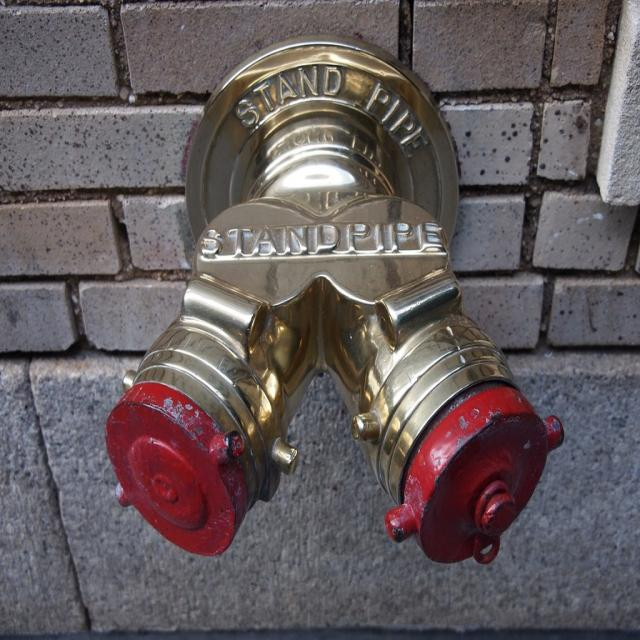fire_hydrant: (105, 33, 565, 566)
